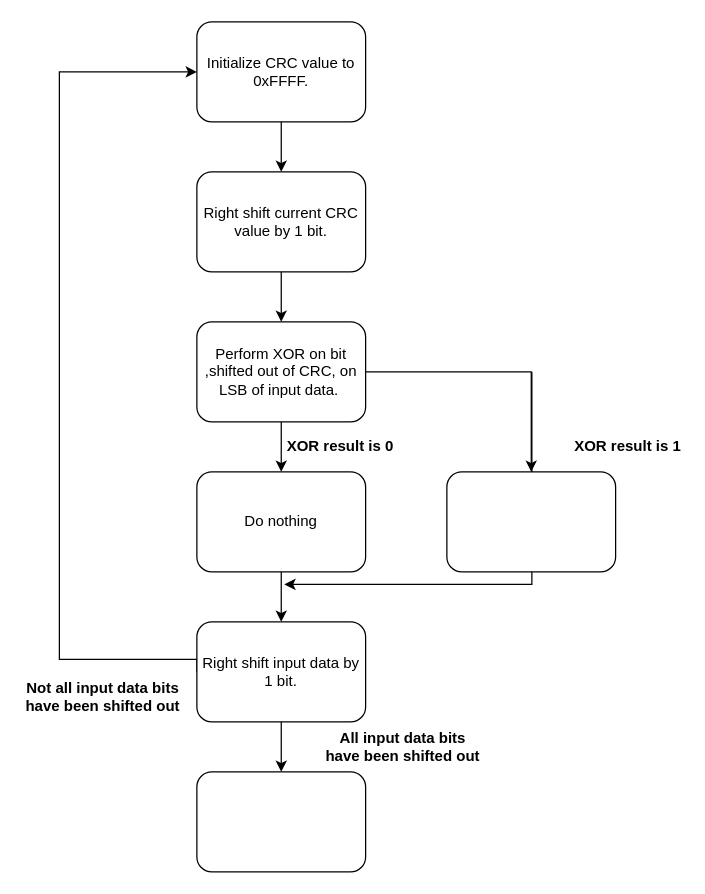
This 705x894 diagram has some shape labels left out. Each missing label, with the centre of its shape:
"Perform one's compliment on CRC value." goes at (x=281, y=821).
"Perform XOR on current CRC value with polynomial (0x8408)." goes at (x=531, y=521).
